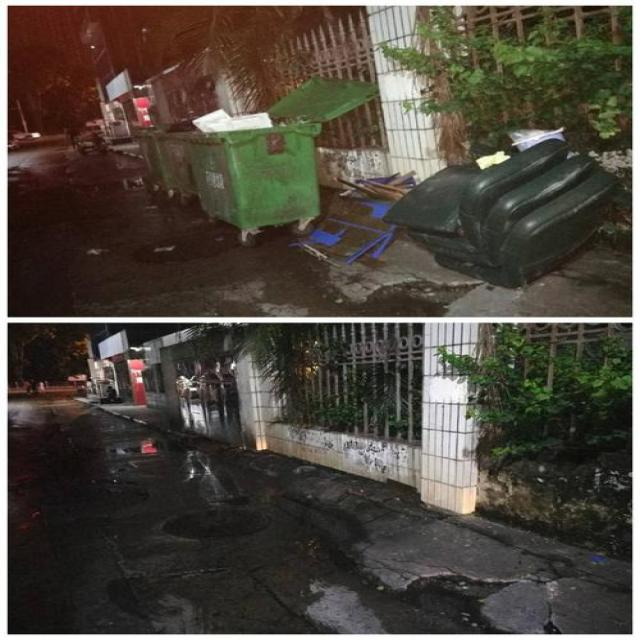overflow: (170, 105, 318, 228)
